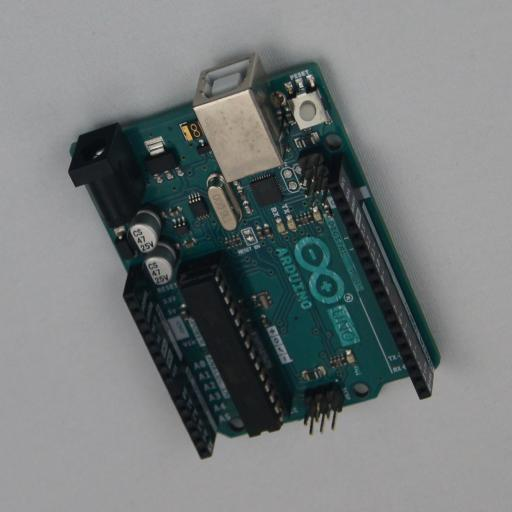Arduino Uno -Green-: (68, 53, 440, 459)
